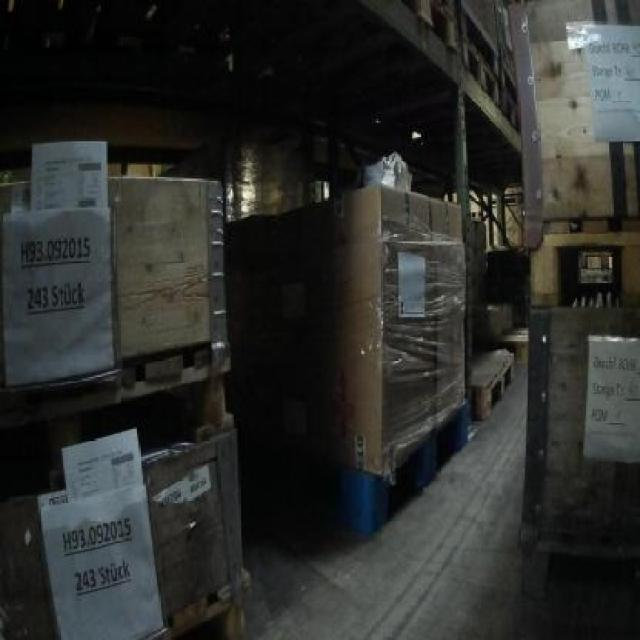pallets: (340, 183, 463, 475), (520, 306, 637, 568)
